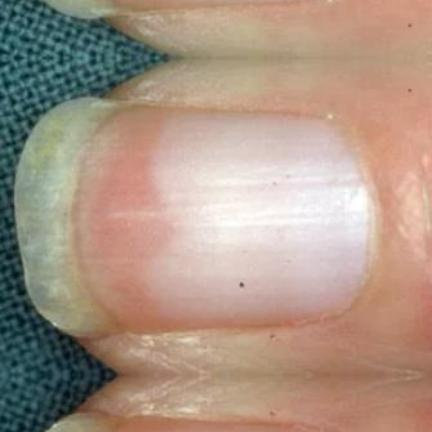Nail: (13, 95, 376, 339), (41, 410, 332, 432), (43, 0, 317, 19)
